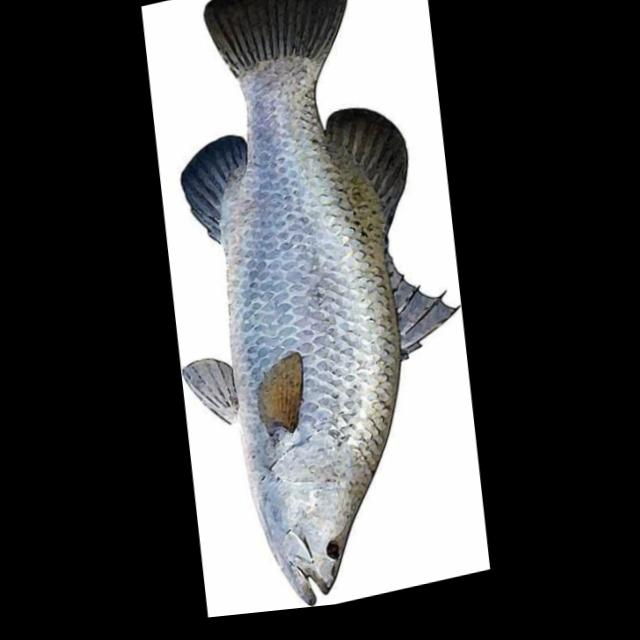Seabass: (132, 0, 498, 625)
